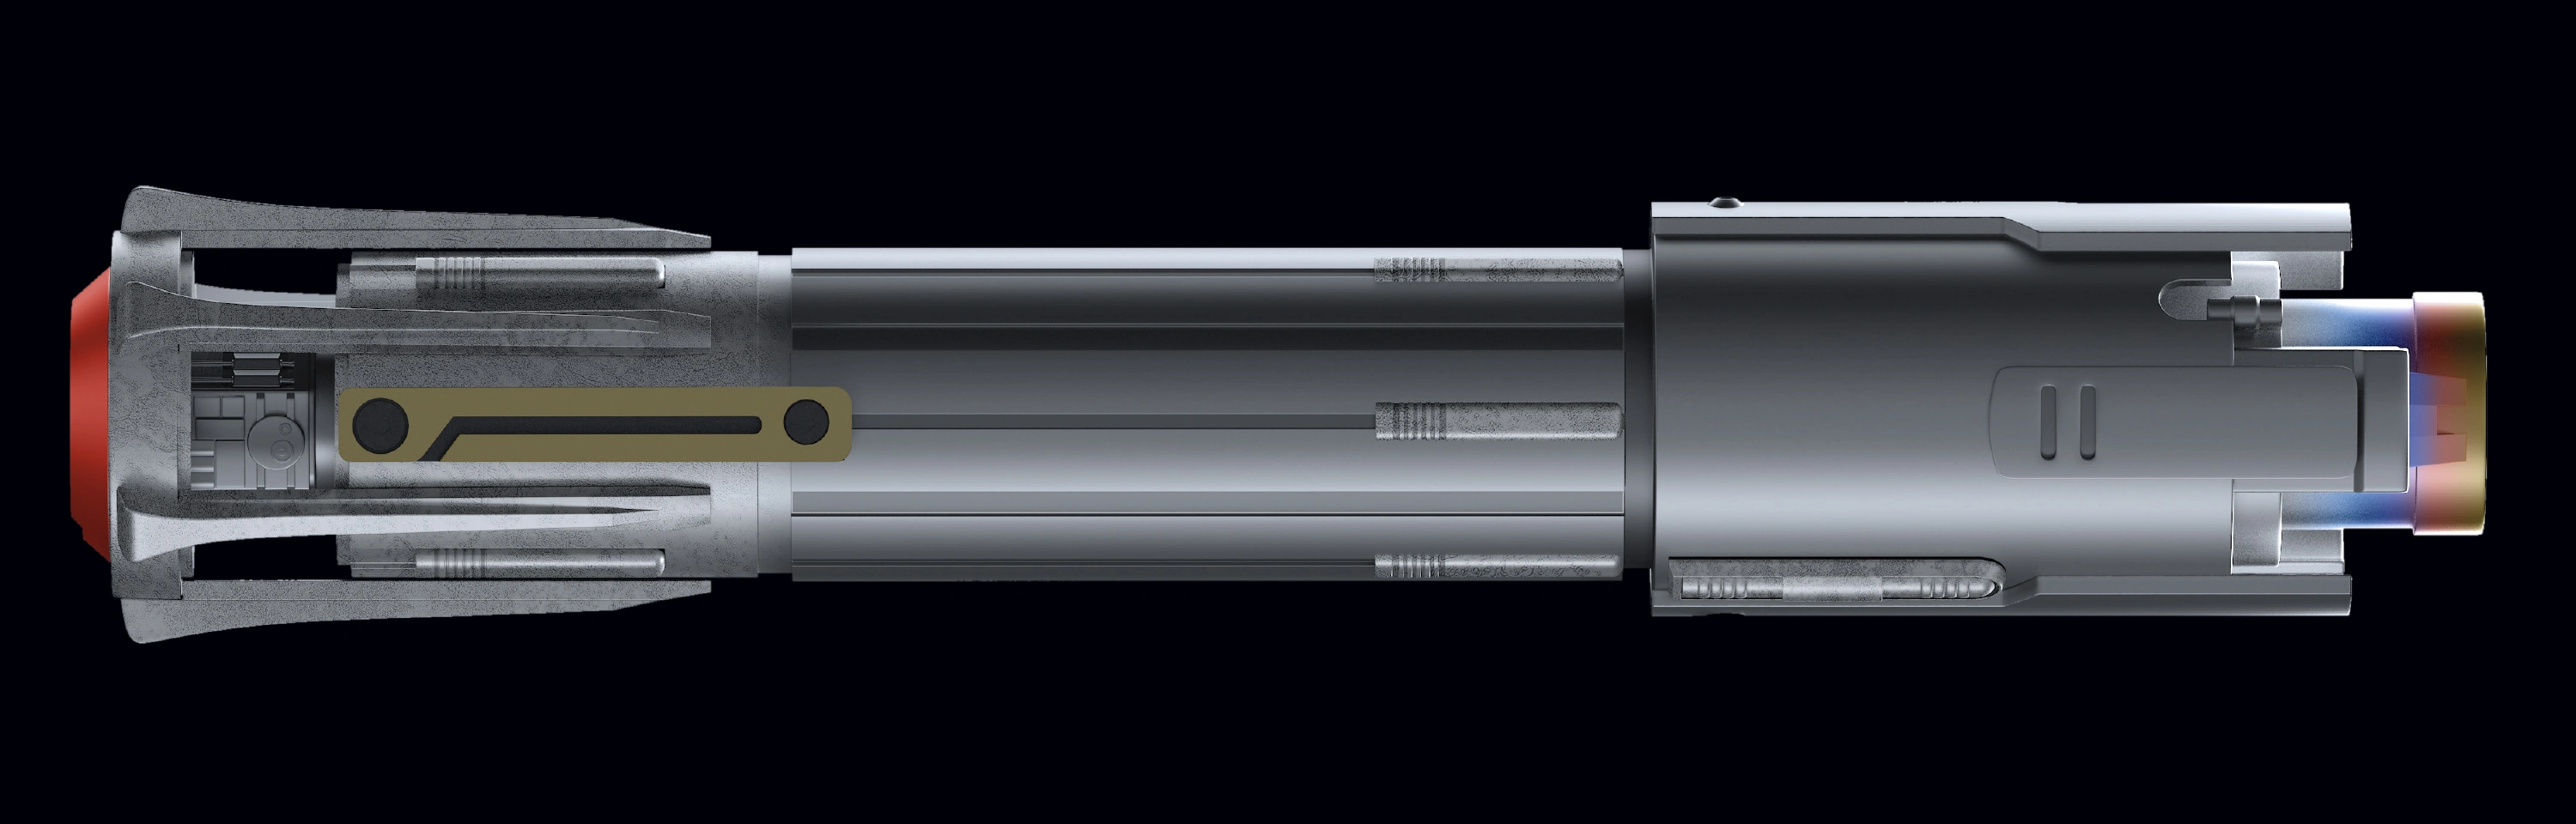Dalek: (48, 154, 2495, 676)
